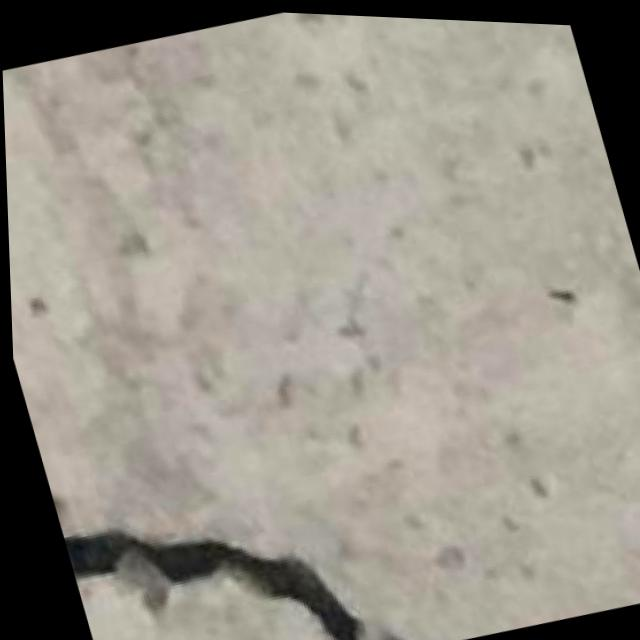Crack: (52, 430, 471, 640)
